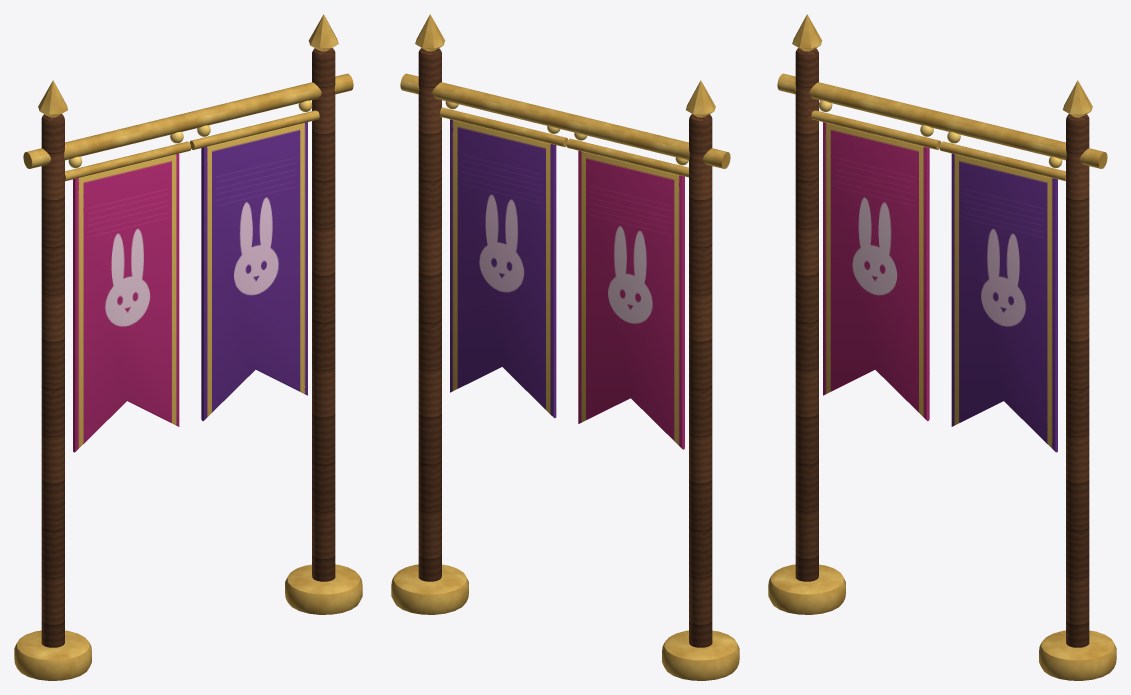
Rendered from GIN_BannerStand.fbx.
3 views of the same model, side by side, from view 1: azimuth 30°, elevation 25°; view 2: azimuth 150°, elevation 25°; view 3: azimuth 330°, elevation 25° (orthographic).
Visible parts, largest first — view 1: GIN_BannerStand; view 2: GIN_BannerStand; view 3: GIN_BannerStand.
Part boxes in pixels (bbox=[...]): GIN_BannerStand: bbox=[14, 14, 362, 680]; GIN_BannerStand: bbox=[391, 14, 739, 680]; GIN_BannerStand: bbox=[768, 14, 1116, 680].
Bounding box in the file's own units: 2 × 3.32 × 0.4.
